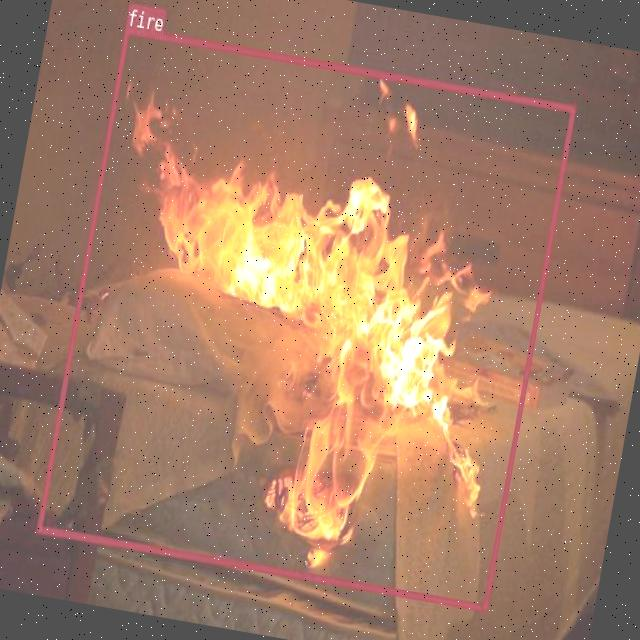fire: (36, 25, 574, 610)
